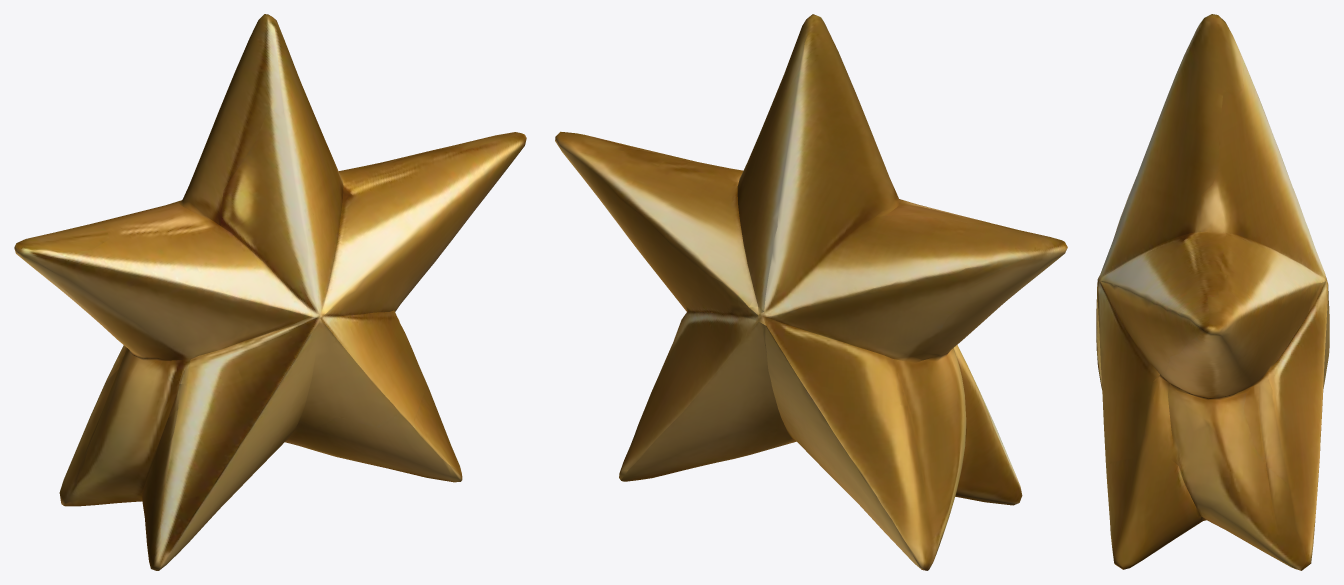
The model's file is m2SkyStar.glb.
3 renders of one model, left to right at view 1: azimuth 30°, elevation 25°; view 2: azimuth 150°, elevation 25°; view 3: azimuth 270°, elevation 25°, orthographic. The views are drawn at different scales.
Parts seen in each view (by area): view 1: model; view 2: model; view 3: model.
Part boxes in pixels (box(x1,y1,x2,y2)): model: box(14, 14, 526, 570); model: box(555, 14, 1067, 570); model: box(1096, 14, 1329, 570).
Bounding box in the file's own units: 1.9 × 1.72 × 0.7376.
1 material, 1 textured.
